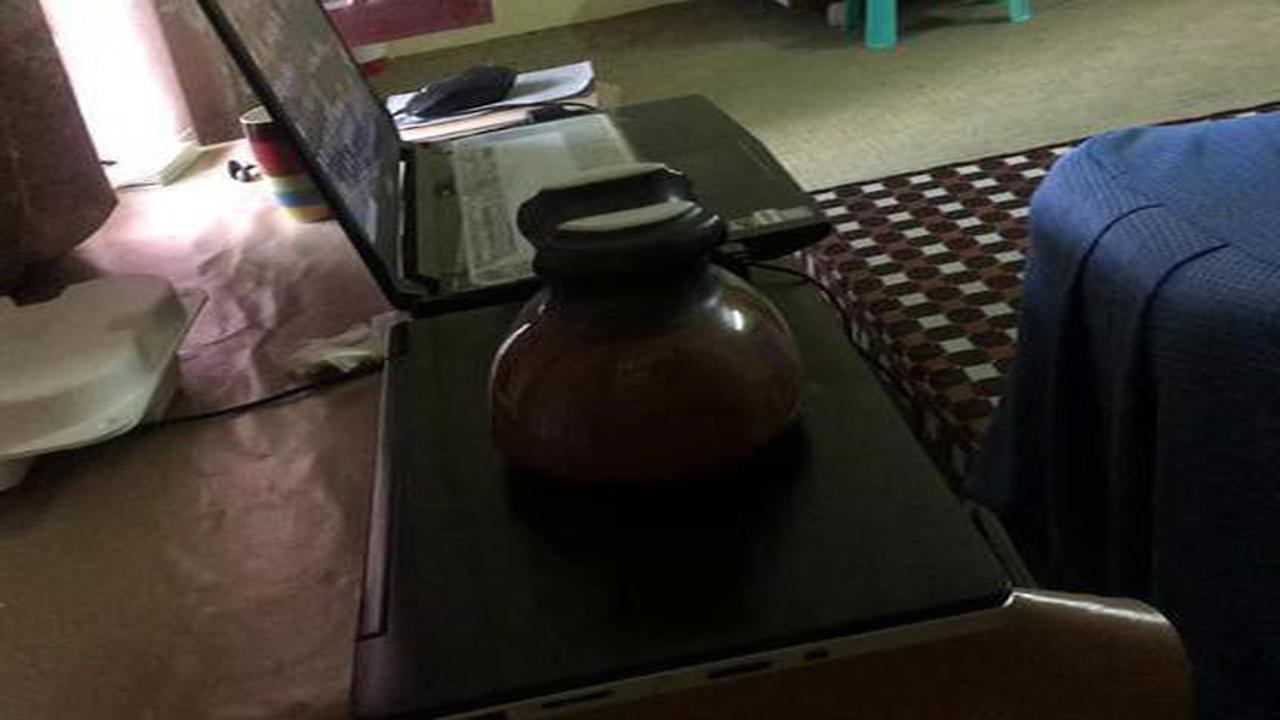insulator_pin: (465, 155, 837, 534)
